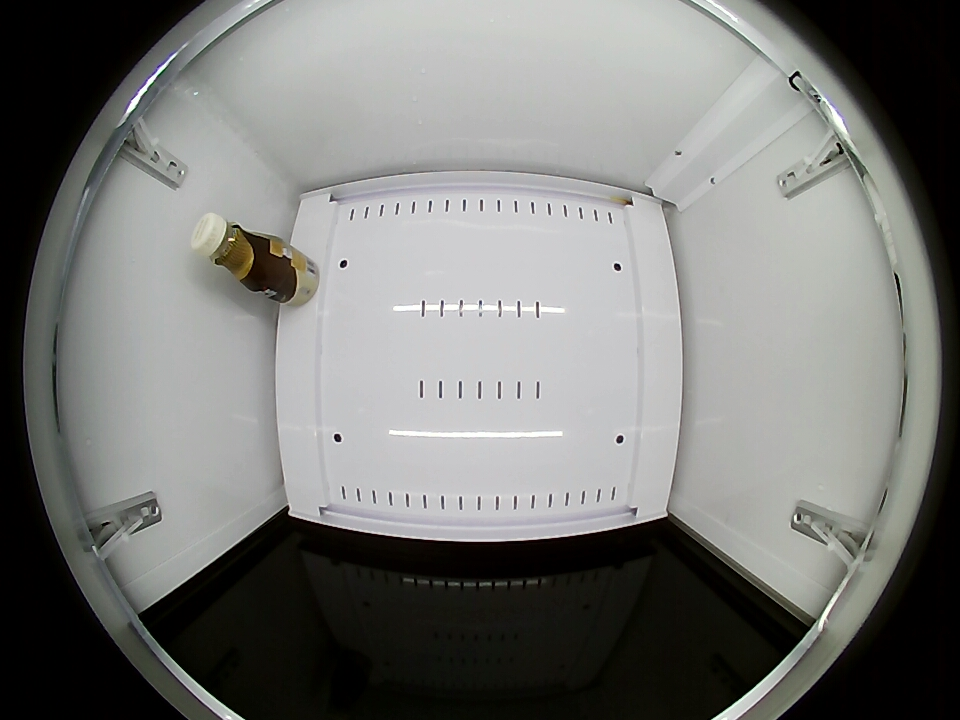kafei: (191, 214, 276, 291)
